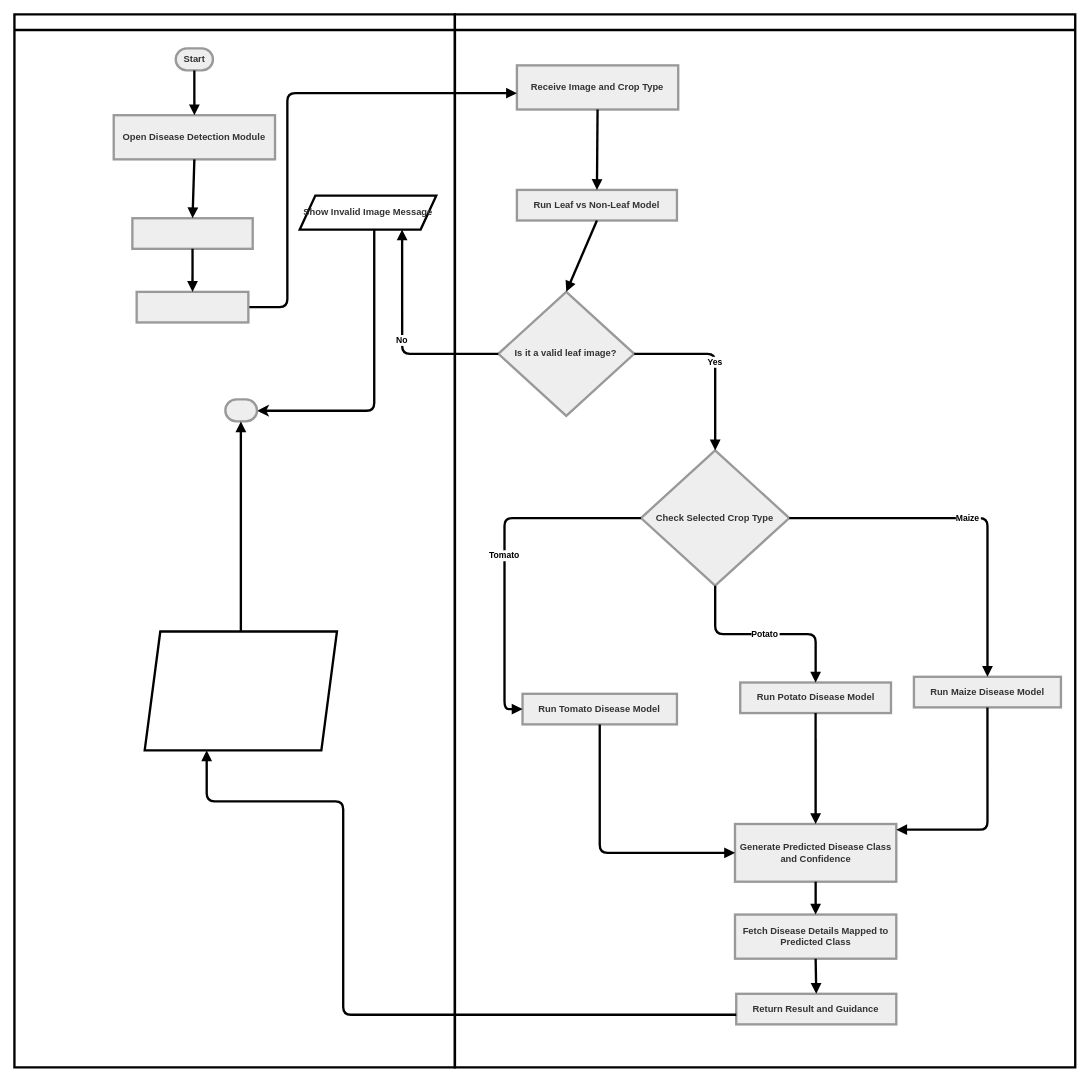
Some shapes in this 1090 by 1082 pixel diagram are drawn without their labels. The box of each missing label's shape, as (x1, y1, x2, y2) in pixels:
End: (224, 398, 258, 422)
Select Crop Type: (135, 290, 249, 323)
System: (453, 13, 1076, 1068)
Upload Leaf Image: (131, 217, 254, 250)
User: (13, 13, 456, 1068)
View Disease Information, Prevention, and Treatment Guidance: (143, 630, 338, 751)
